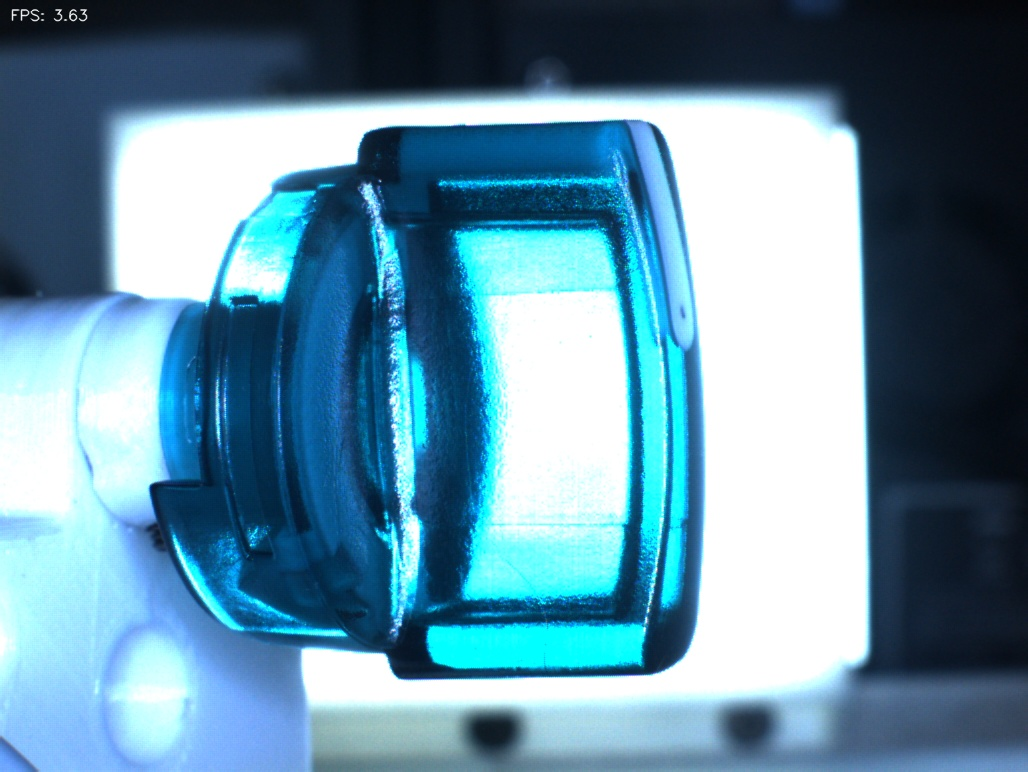PointNoir: (660, 277, 710, 345)
